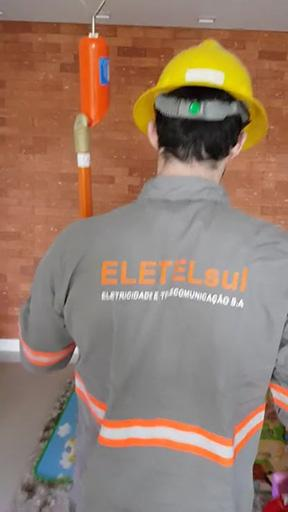Detector_Tensao_Contato: (78, 1, 112, 131)
